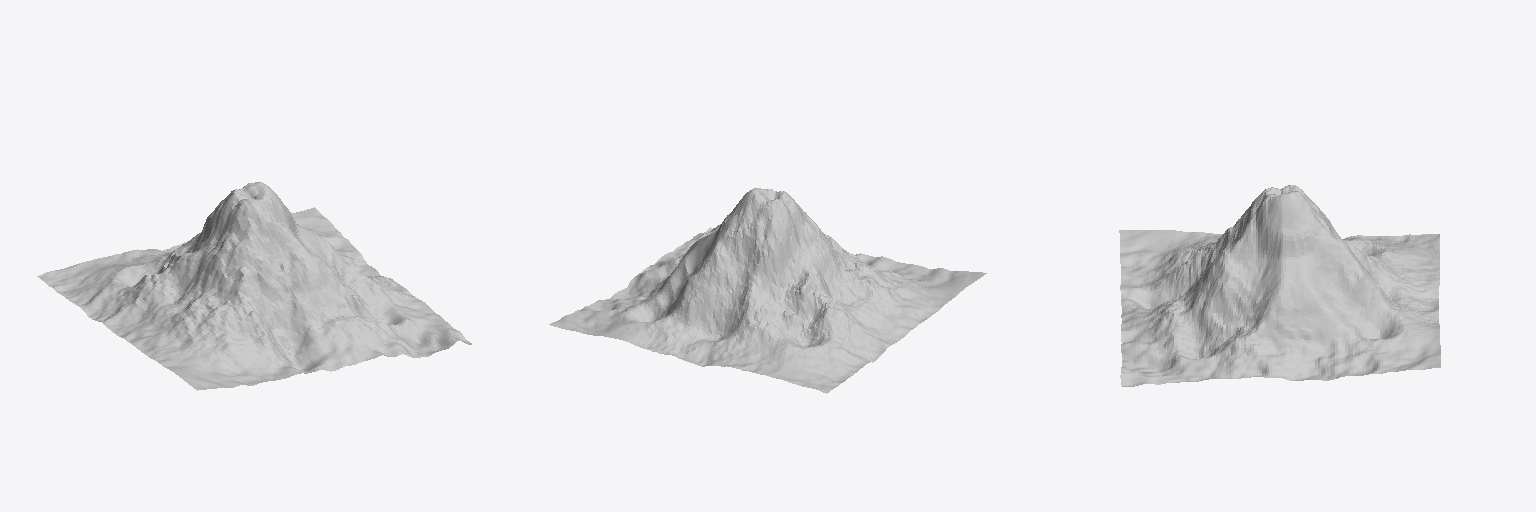
Rendered from doom.obj.
3 renders of one model, left to right at view 1: azimuth 30°, elevation 25°; view 2: azimuth 150°, elevation 25°; view 3: azimuth 270°, elevation 25°, orthographic.
Visible parts, largest first — view 1: Landscape.001; view 2: Landscape.001; view 3: Landscape.001.
Part boxes in pixels (x1,y1,x2,y2): Landscape.001: (37,182,471,390); Landscape.001: (549,188,986,393); Landscape.001: (1119,185,1440,386).
Bounding box in the file's own units: 4 × 1.85 × 4.